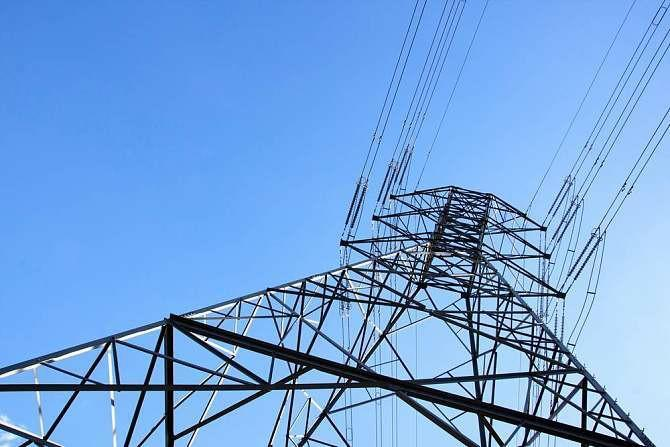power_tower: (0, 176, 660, 447)
